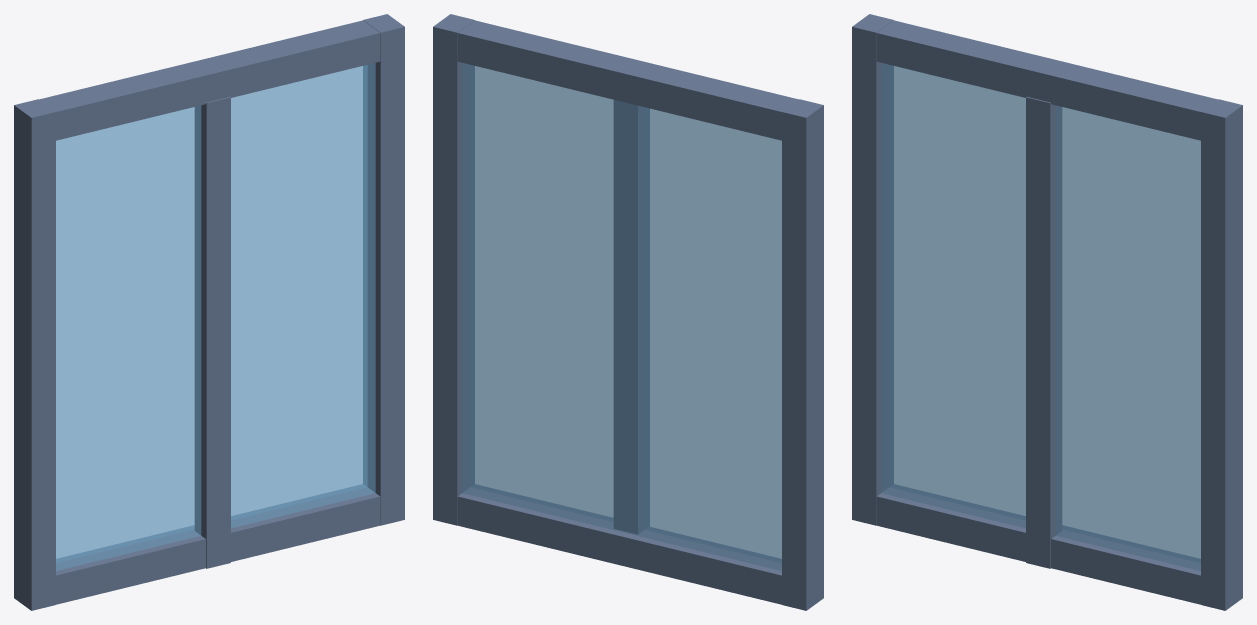
File: 01_window_double.glb
The picture shows the model from 3 angles, left to right: view 1: azimuth 30°, elevation 25°; view 2: azimuth 150°, elevation 25°; view 3: azimuth 330°, elevation 25°; orthographic projection.
Parts seen in each view (by area): view 1: part_1.008, part_2.008, part_3, part_4, part_5, part_6; view 2: part_1.008, part_2.008, part_3, part_4, part_6, part_5; view 3: part_1.008, part_3, part_2.008, part_4, part_5, part_6.
Part boxes in pixels (left/top/right/bottom): part_1.008: left=56, top=63, right=375, bottom=570; part_2.008: left=14, top=99, right=55, bottom=610; part_3: left=363, top=14, right=404, bottom=525; part_4: left=194, top=96, right=230, bottom=568; part_5: left=39, top=20, right=380, bottom=140; part_6: left=14, top=484, right=380, bottom=610; part_1.008: left=462, top=63, right=781, bottom=570; part_2.008: left=782, top=99, right=823, bottom=610; part_3: left=433, top=14, right=474, bottom=525; part_4: left=613, top=100, right=649, bottom=534; part_6: left=457, top=484, right=823, bottom=610; part_5: left=457, top=20, right=798, bottom=140; part_1.008: left=881, top=63, right=1200, bottom=570; part_3: left=1201, top=99, right=1242, bottom=610; part_2.008: left=852, top=14, right=893, bottom=525; part_4: left=1026, top=96, right=1062, bottom=568; part_5: left=876, top=20, right=1217, bottom=140; part_6: left=876, top=484, right=1232, bottom=610.
Size of the model in its own units: 2.38 by 3 by 0.2004.
